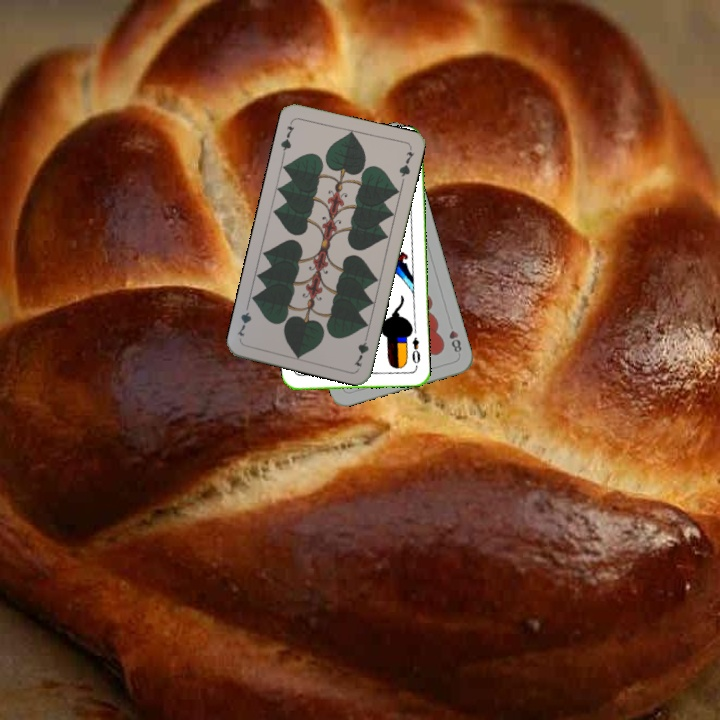EO: (408, 333, 423, 366)
G7: (350, 329, 371, 369), (277, 117, 297, 158)
H8: (445, 318, 464, 355)
